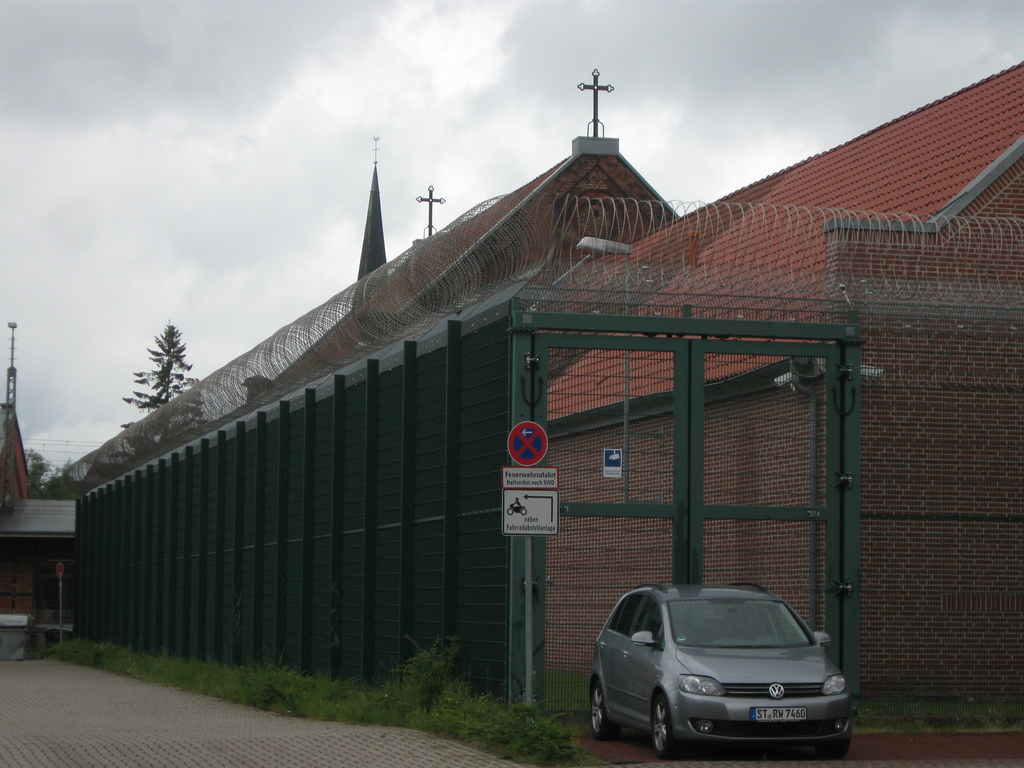Car: (593, 591, 860, 757)
